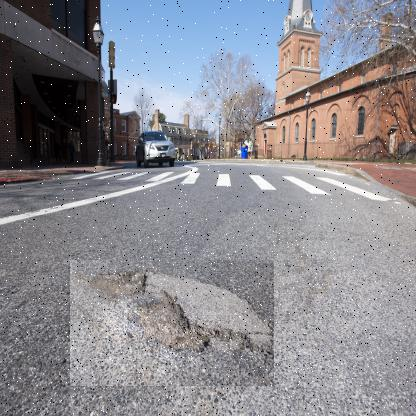damage: (70, 260, 275, 387)
